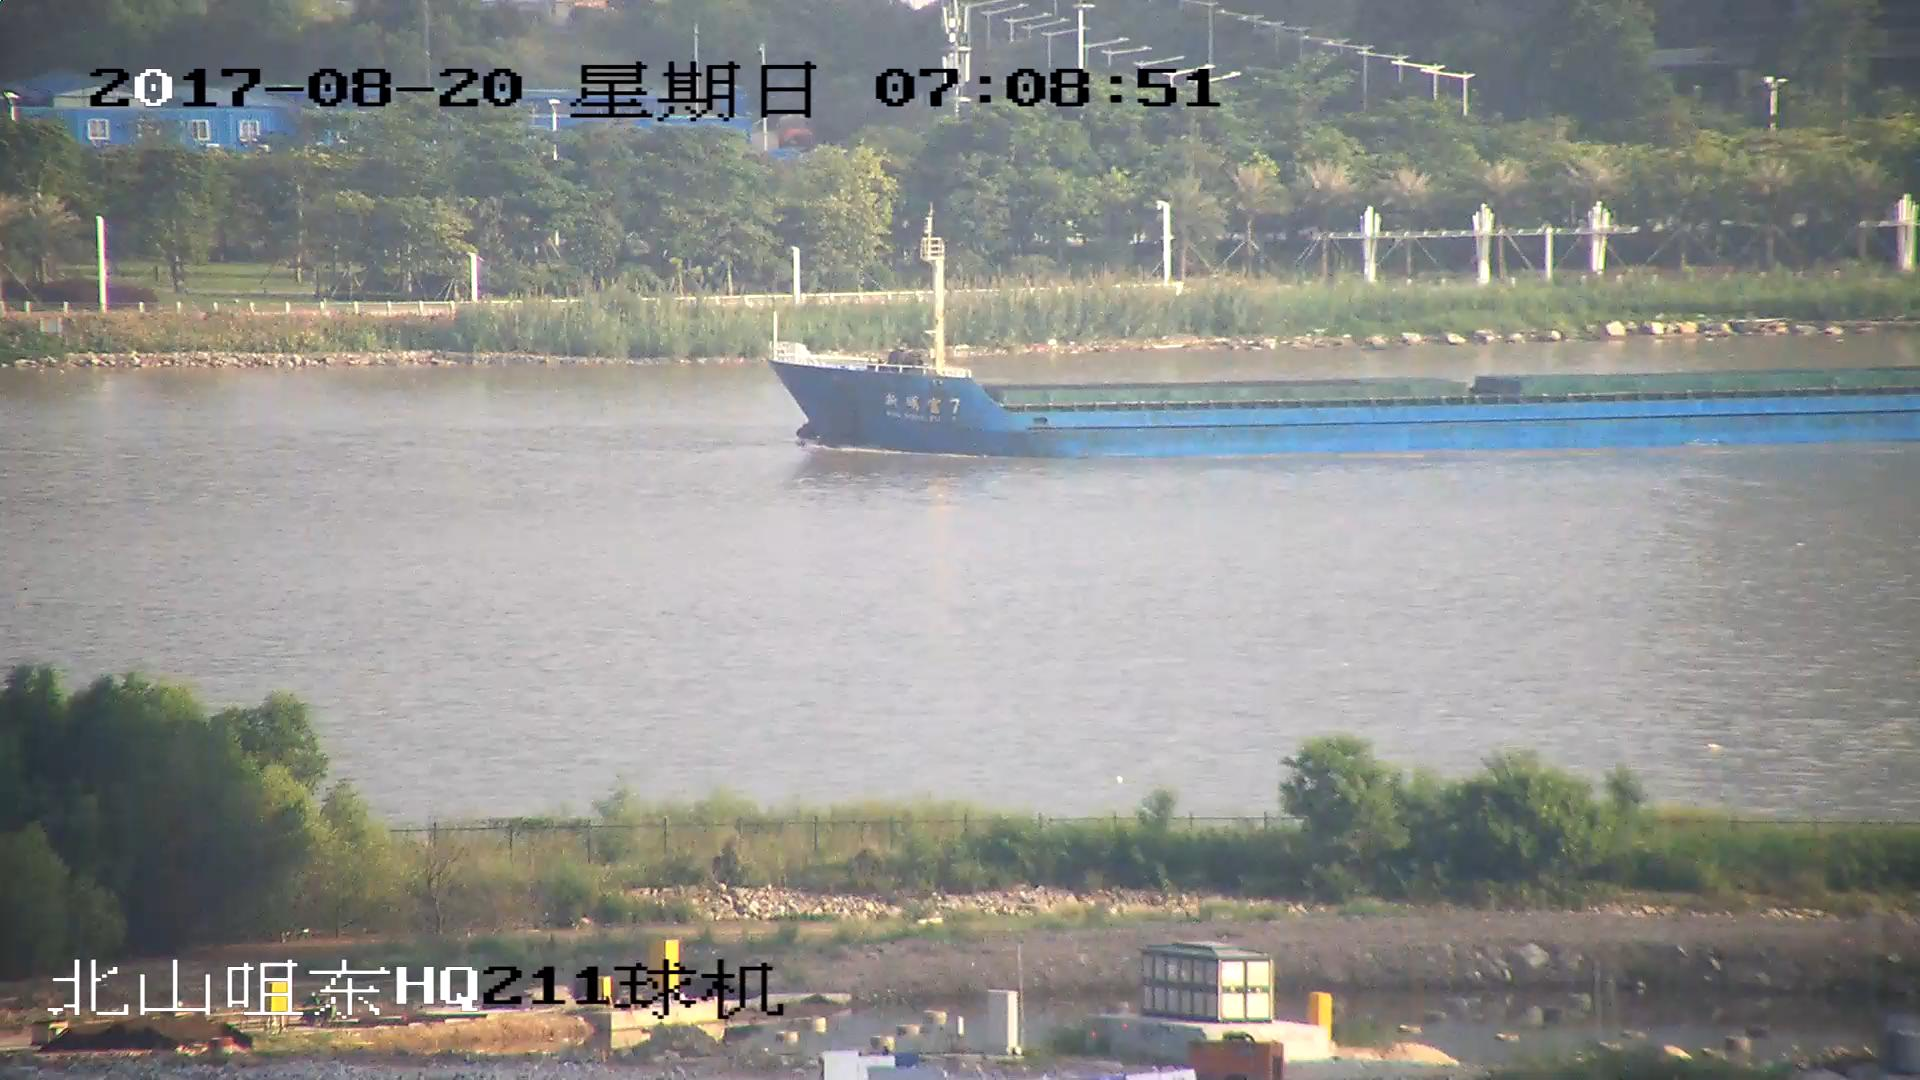general cargo ship: (767, 236, 1920, 463)
